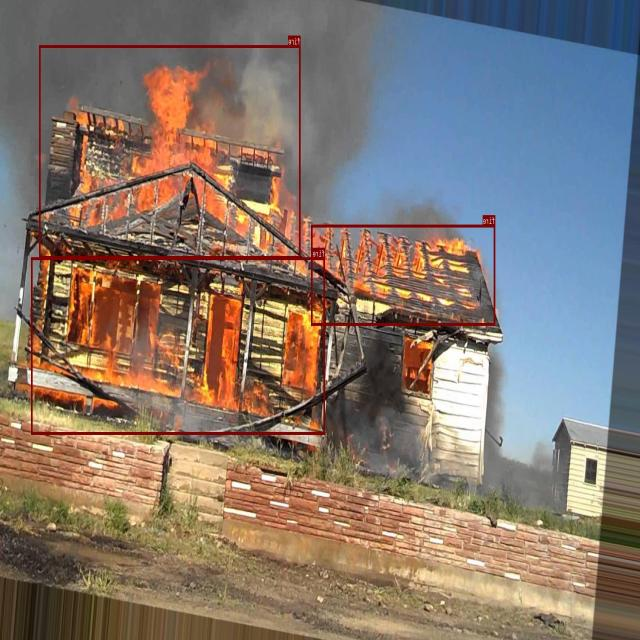fire: (39, 45, 301, 258), (32, 257, 325, 434), (312, 224, 496, 326)
